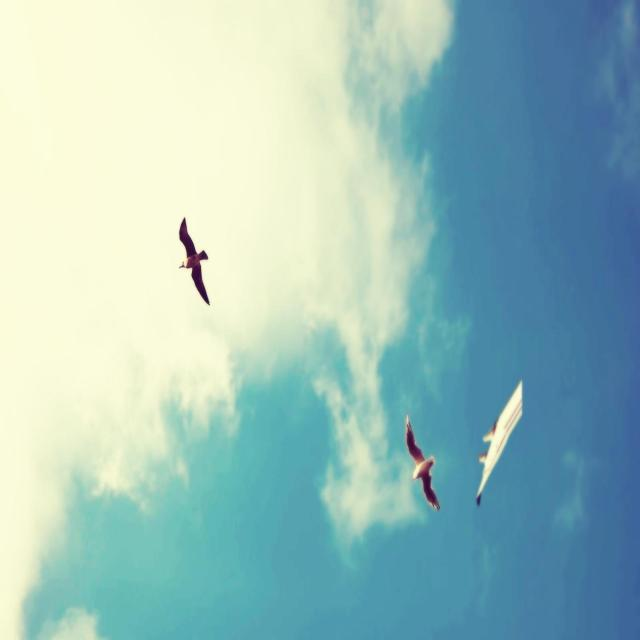airplane: (476, 379, 522, 506)
